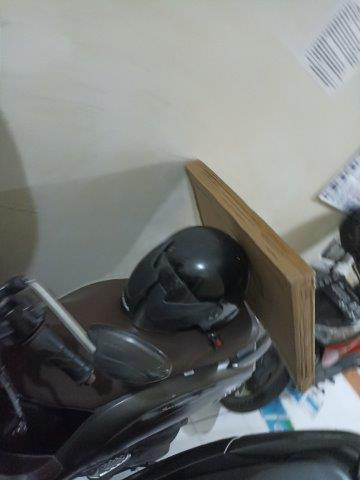kardus: (187, 158, 315, 392)
